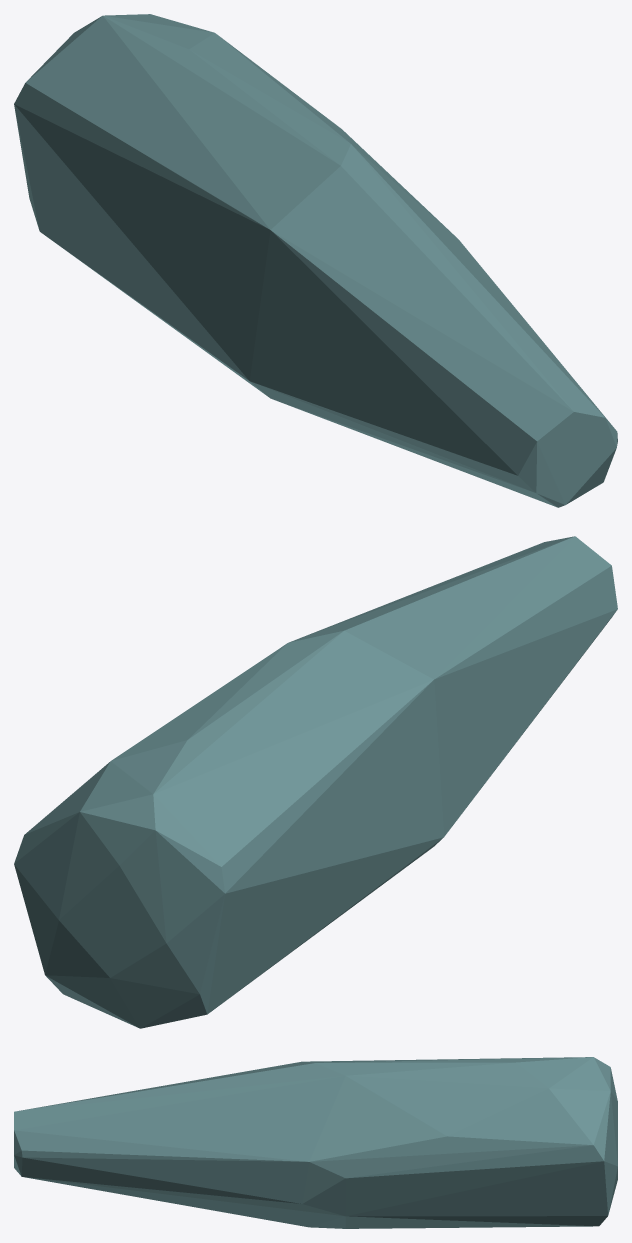
File: food_beverage_beerBottle_k01.glb
The picture shows the model from 3 angles, top to bottom: view 1: azimuth 30°, elevation 25°; view 2: azimuth 150°, elevation 25°; view 3: azimuth 270°, elevation 25°; orthographic projection. The views are drawn at different scales.
Visible parts, largest first — view 1: geometry_0; view 2: geometry_0; view 3: geometry_0.
Part boxes in pixels (box(x1,y1,x2,y2)): geometry_0: box(14, 14, 617, 507); geometry_0: box(14, 536, 617, 1028); geometry_0: box(14, 1057, 617, 1228).
Bounding box in the file's own units: 0.1307 × 0.1396 × 0.48.
